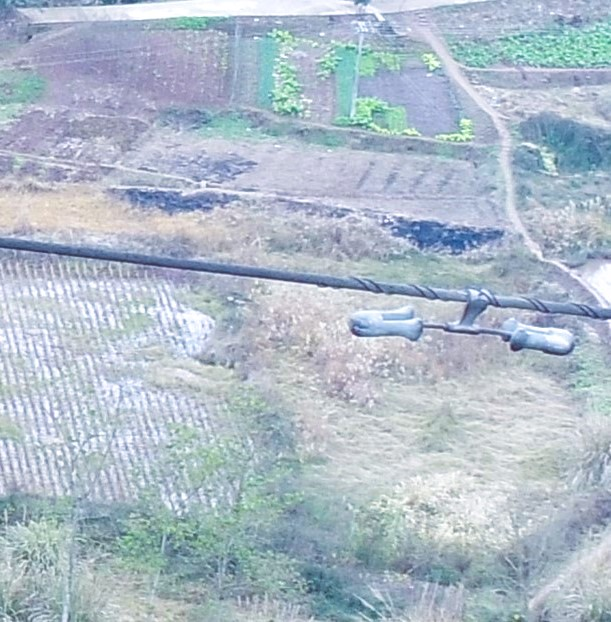Shockproof hammer: (341, 266, 585, 366)
